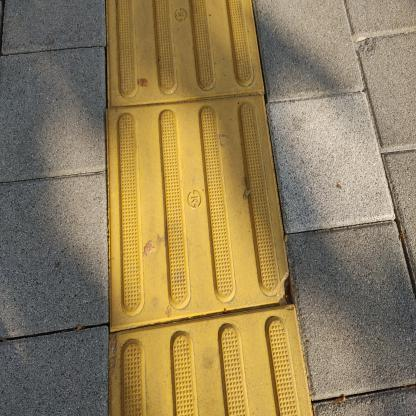podotacti: (96, 0, 322, 415)
